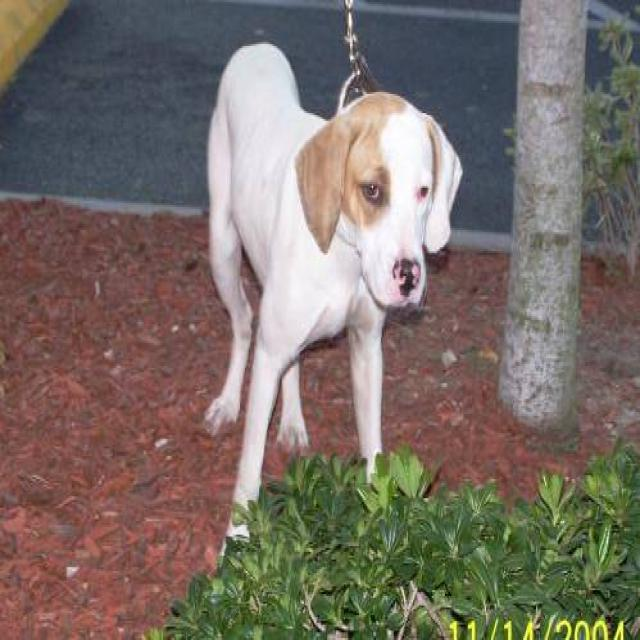dog: (203, 41, 463, 566)
